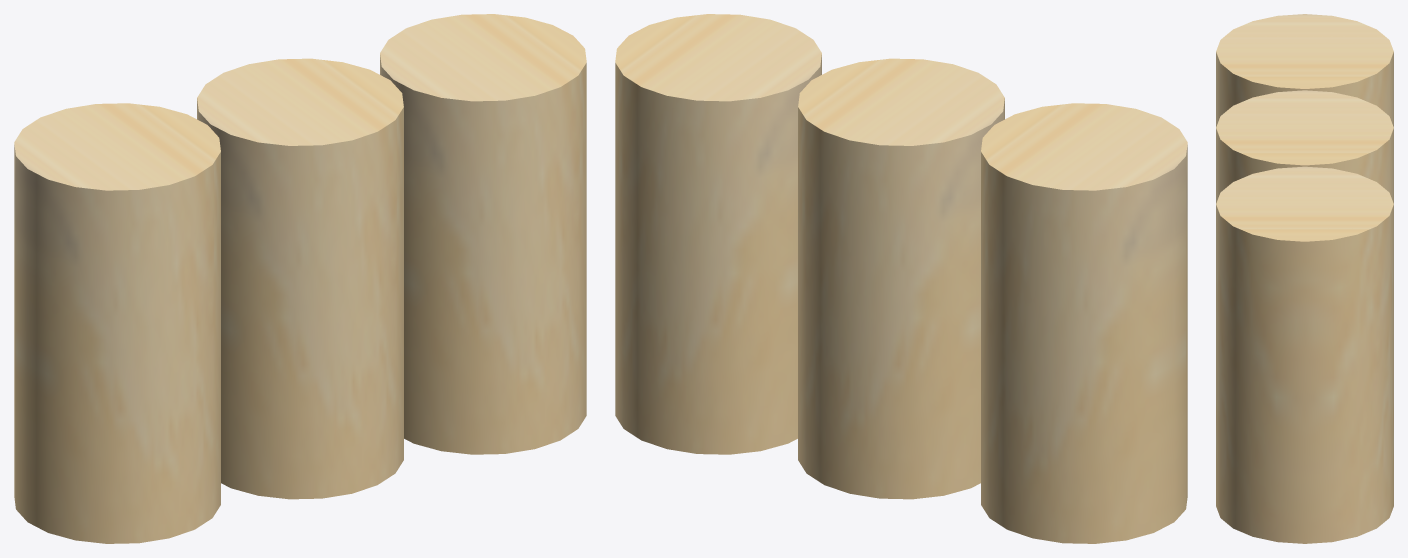
Rendered from CM_AF01_LinenRolls.fbx.
3 views of the same model, side by side, from view 1: azimuth 30°, elevation 25°; view 2: azimuth 150°, elevation 25°; view 3: azimuth 270°, elevation 25° (orthographic). The views are drawn at different scales.
Parts seen in each view (by area): view 1: CM_AF01_LinenRolls; view 2: CM_AF01_LinenRolls; view 3: CM_AF01_LinenRolls.
Part boxes in pixels (left/top/right/bottom): CM_AF01_LinenRolls: left=14, top=14, right=586, bottom=543; CM_AF01_LinenRolls: left=615, top=14, right=1187, bottom=543; CM_AF01_LinenRolls: left=1216, top=14, right=1393, bottom=543.
Size of the model in its own units: 0.194 by 0.12 by 0.064.
